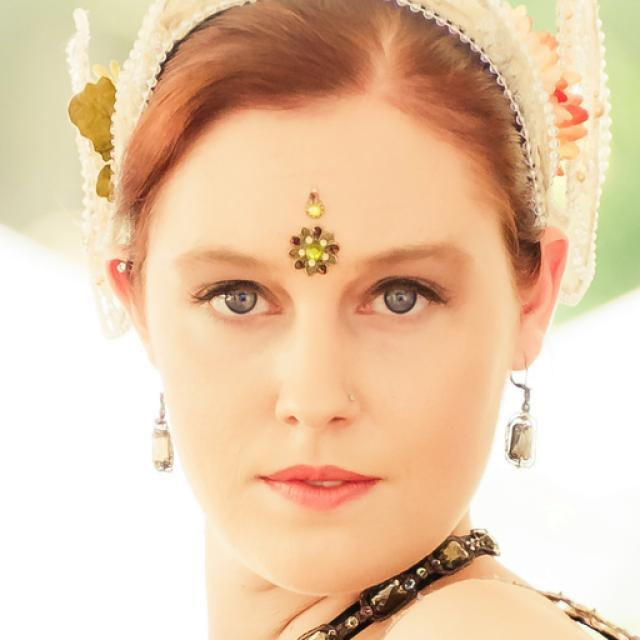neutral: (142, 88, 518, 596)
